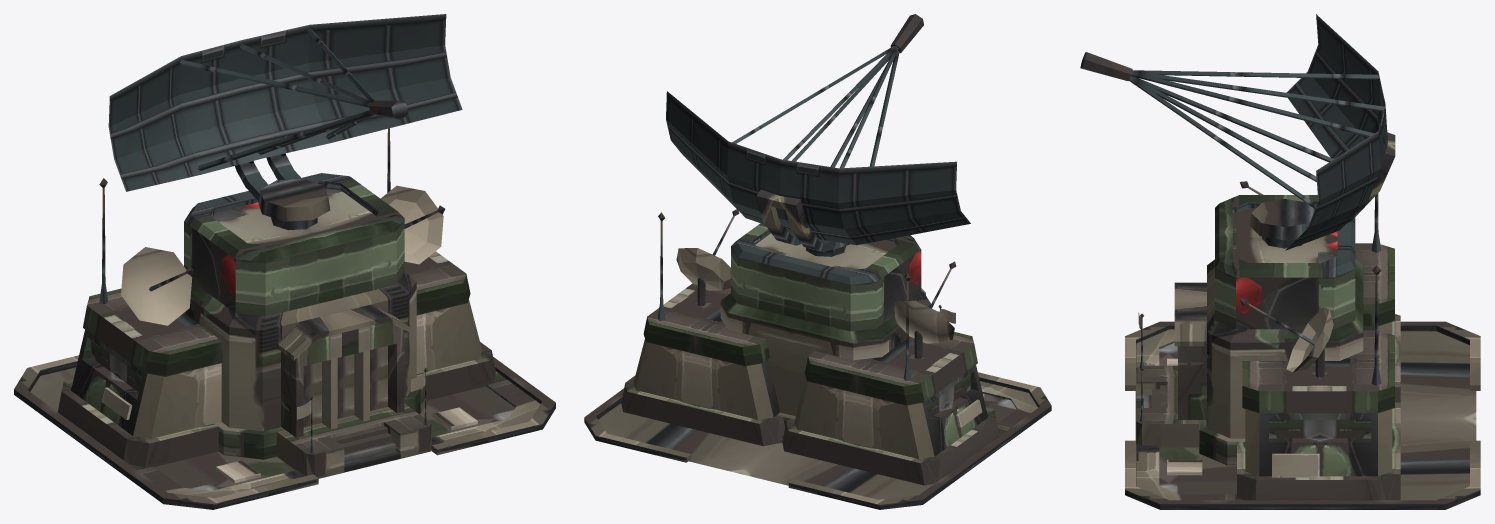
The model's file is leida_01.FBX.
3 renders of one model, left to right at view 1: azimuth 30°, elevation 25°; view 2: azimuth 150°, elevation 25°; view 3: azimuth 270°, elevation 25°, orthographic. The views are drawn at different scales.
Visible parts, largest first — view 1: leida_01, zhuan_01, zhuan_02, zhuan_03; view 2: leida_01, zhuan_01, zhuan_02, zhuan_03; view 3: leida_01, zhuan_01, zhuan_03.
Part boxes in pixels (x1,y1,x2,y2): leida_01: (14, 128, 555, 509); zhuan_01: (108, 14, 462, 230); zhuan_02: (121, 247, 193, 325); zhuan_03: (380, 185, 445, 264); leida_01: (584, 212, 1051, 509); zhuan_01: (666, 14, 970, 256); zhuan_02: (893, 261, 956, 358); zhuan_03: (676, 209, 739, 305); leida_01: (1125, 193, 1480, 509); zhuan_01: (1080, 14, 1395, 250); zhuan_03: (1239, 298, 1333, 377).
Bounding box in the file's own units: 1307 × 1209 × 1222.
